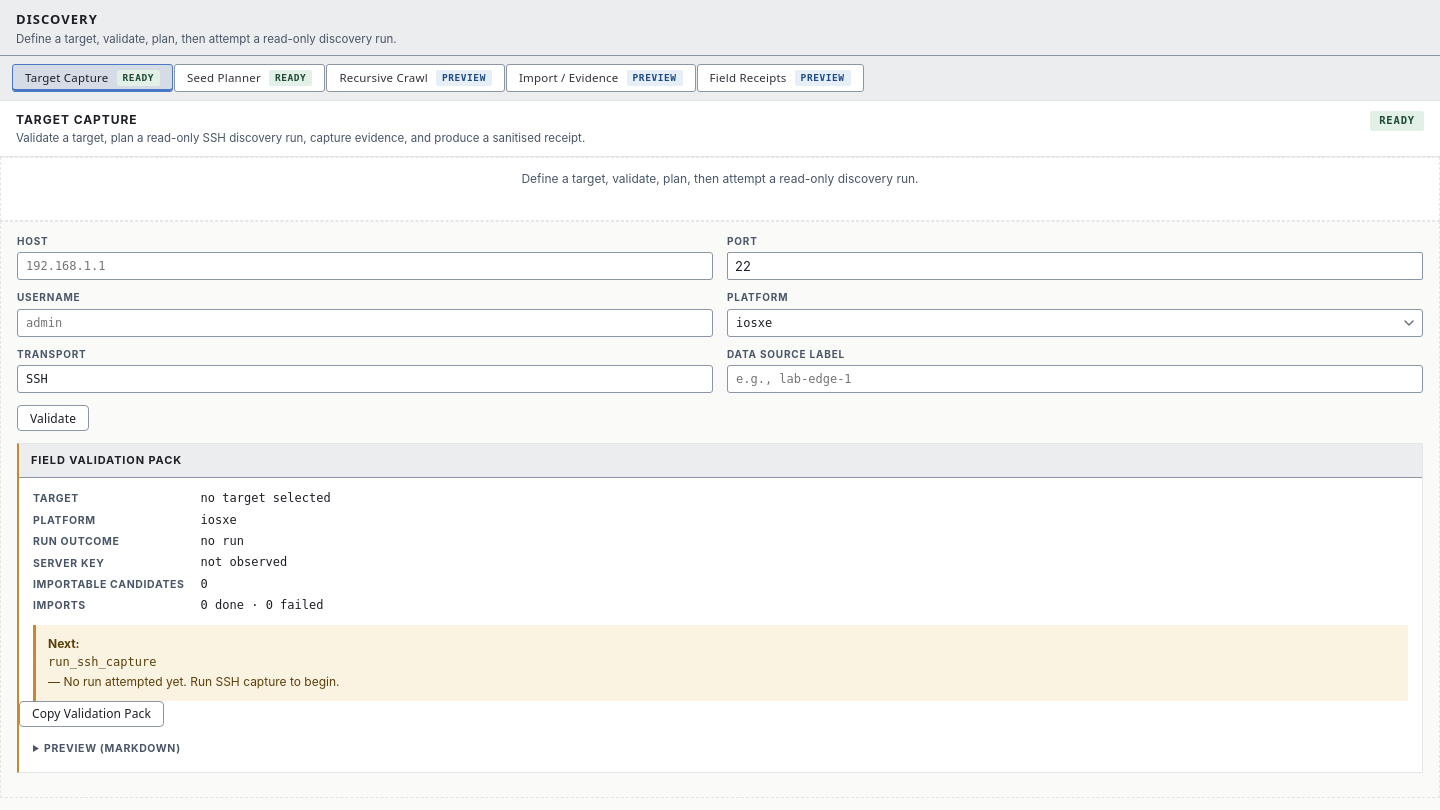
it: DiscoveryMode — V1BA evidence handoff › does NOT render handoff on auth_failed outcome
This screenshot has width=1440, height=810.
Type "x" into the field labelled "Host".
click(365, 266); type("x")  # box [17,252,713,280]
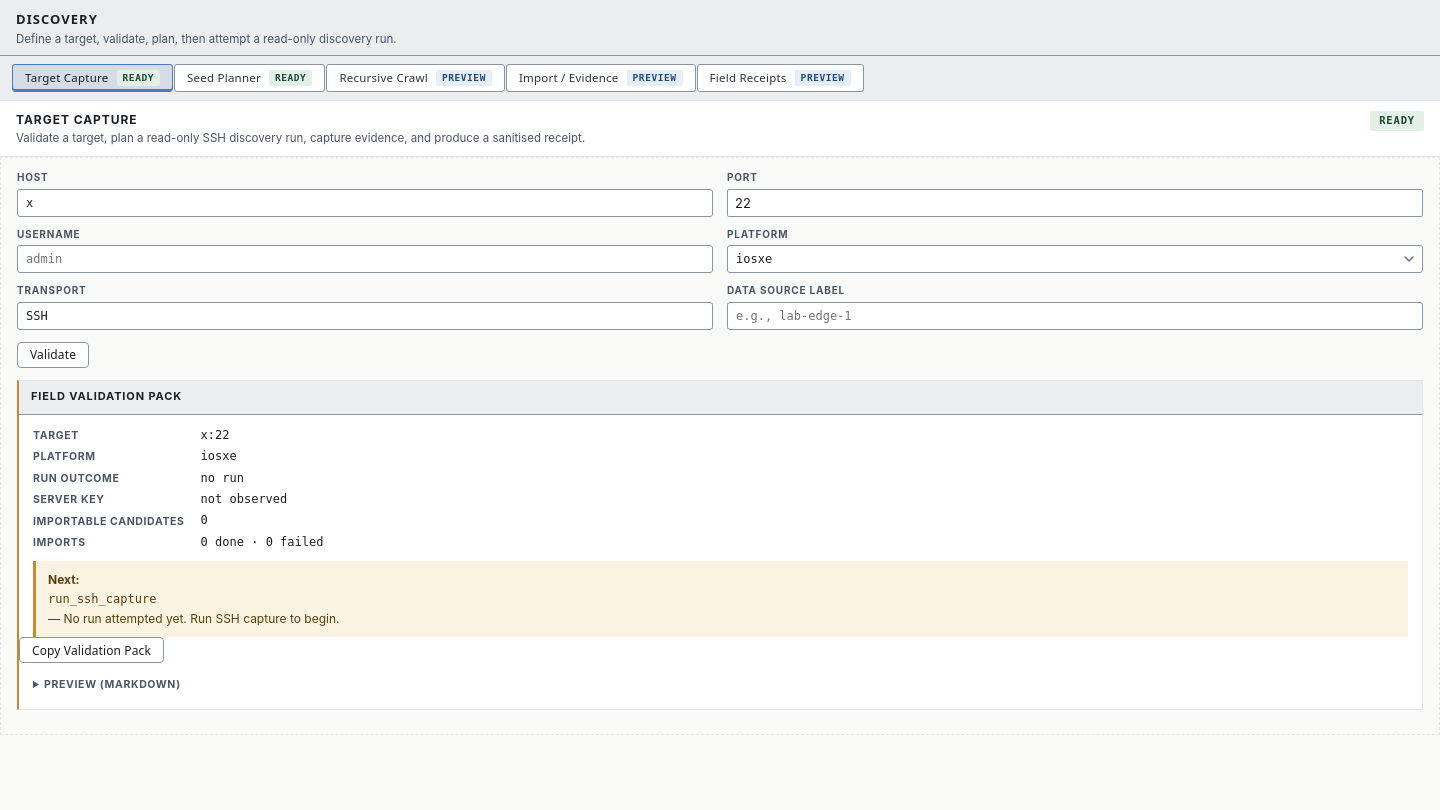
Type "x" into the field labelled "Username".
click(365, 259); type("x")  # box [17,245,713,273]
Type "x" into the field labelled "Data Source Label".
click(1075, 316); type("x")  # box [727,302,1423,330]
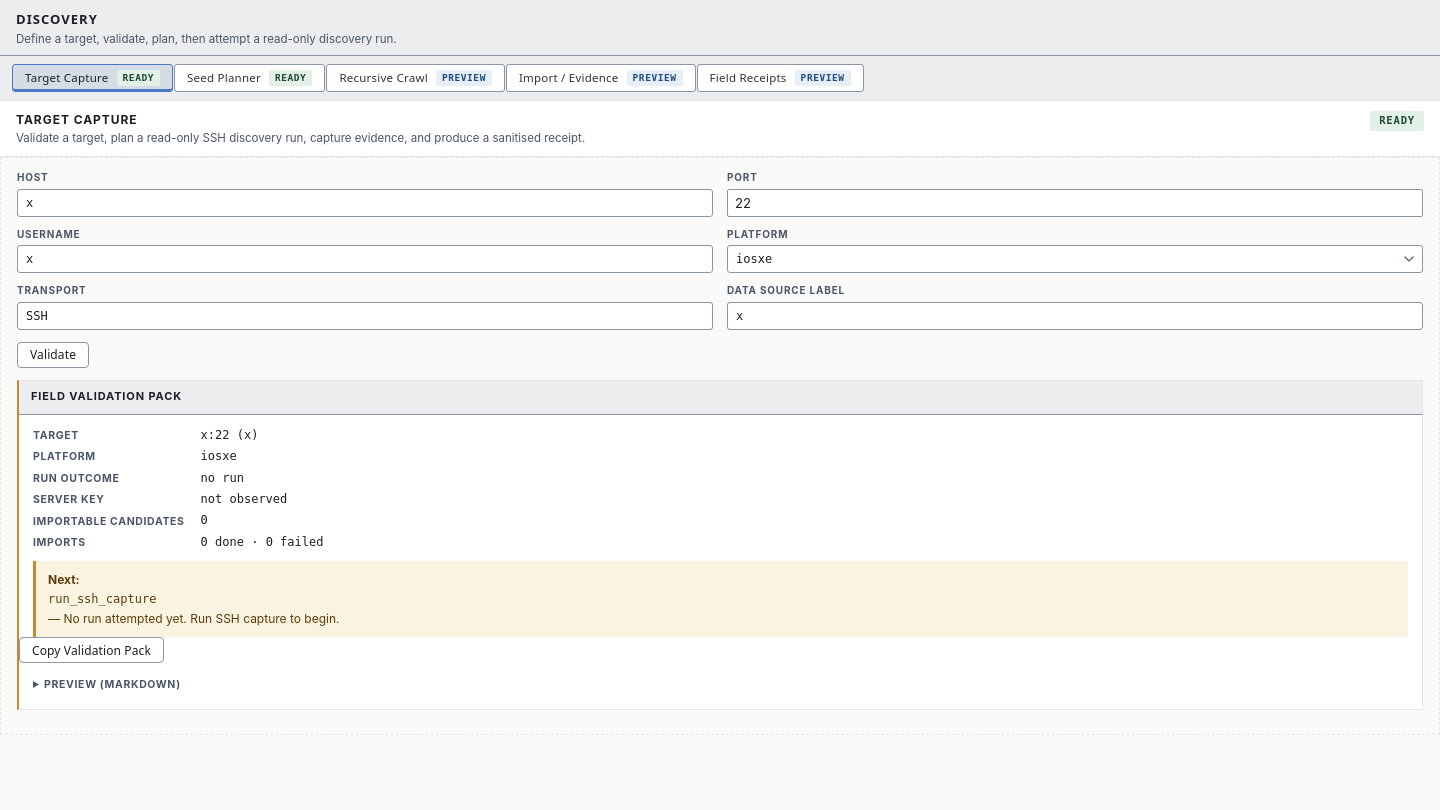
Click the button with test id "discovery-validate-btn".
click(53, 355)  # box [17,342,89,368]
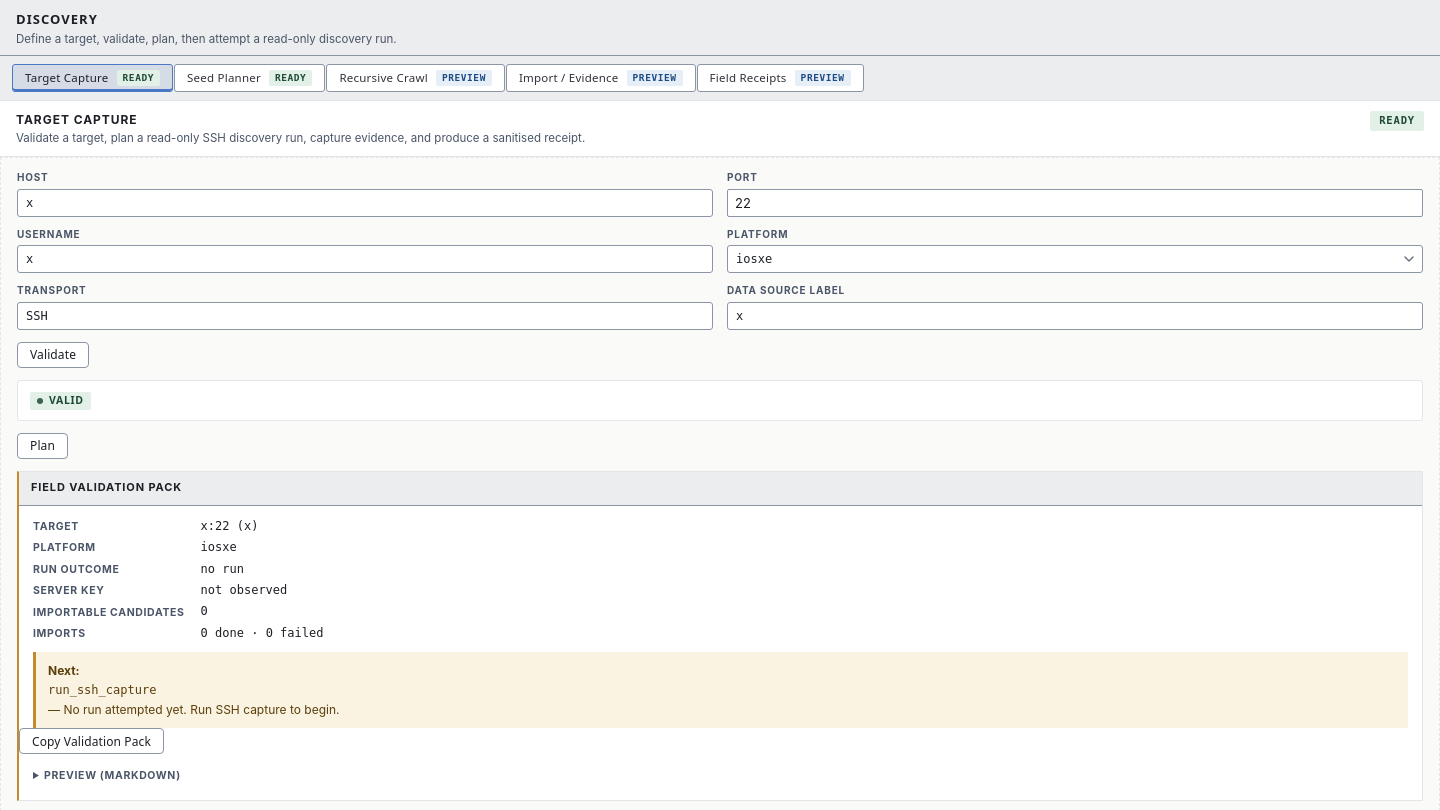
expect the text "Valid" is shown: met, box [30,392,91,410]
Click the button with test id "discovery-plan-btn".
click(42, 446)  # box [17,433,68,459]
(page scrolled)
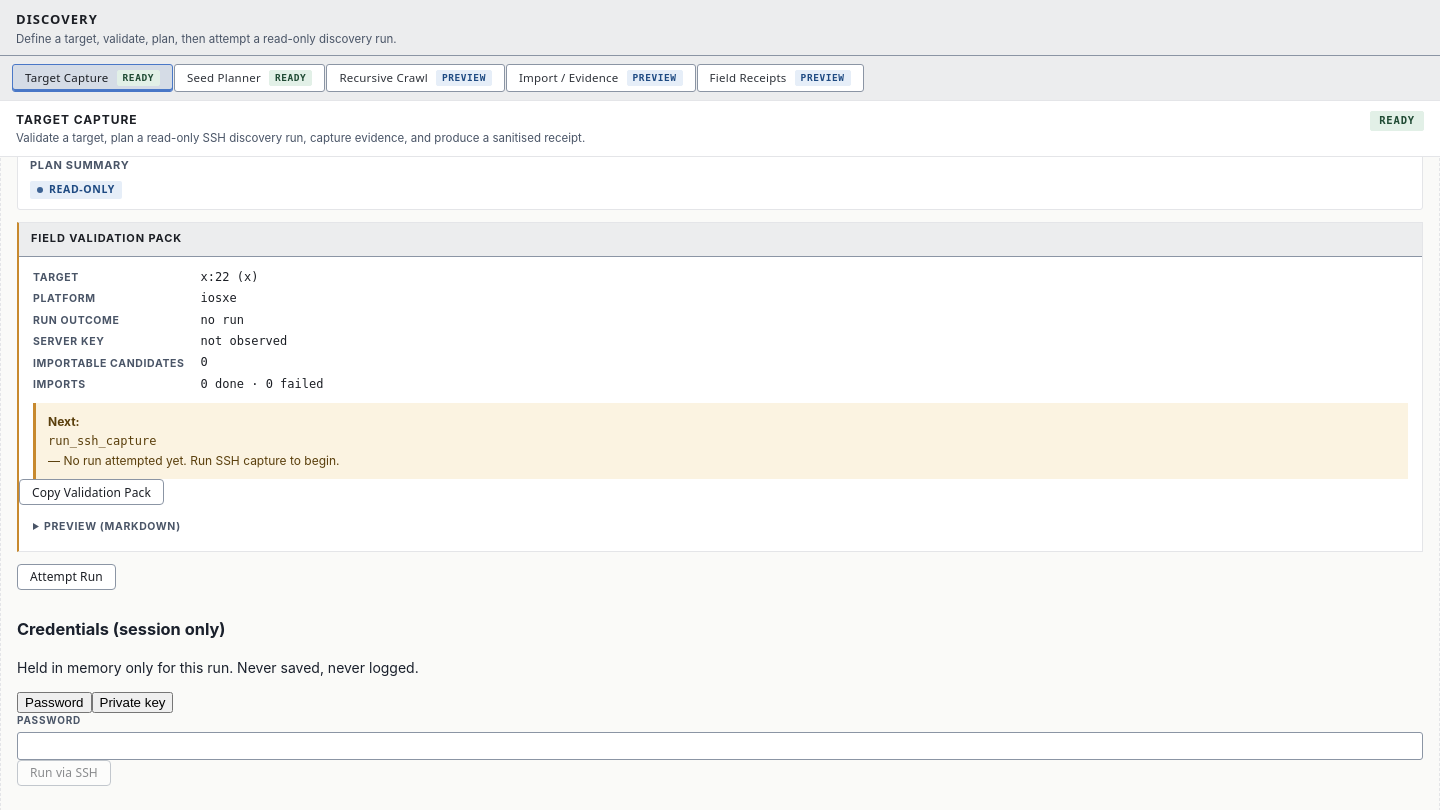
expect the element with test id "discovery-plan-summary" is shown: met, box [17,157,1423,210]
Type "x" into the password field with test id "discovery-credential-password".
click(720, 746); type("x")  # box [17,732,1423,760]
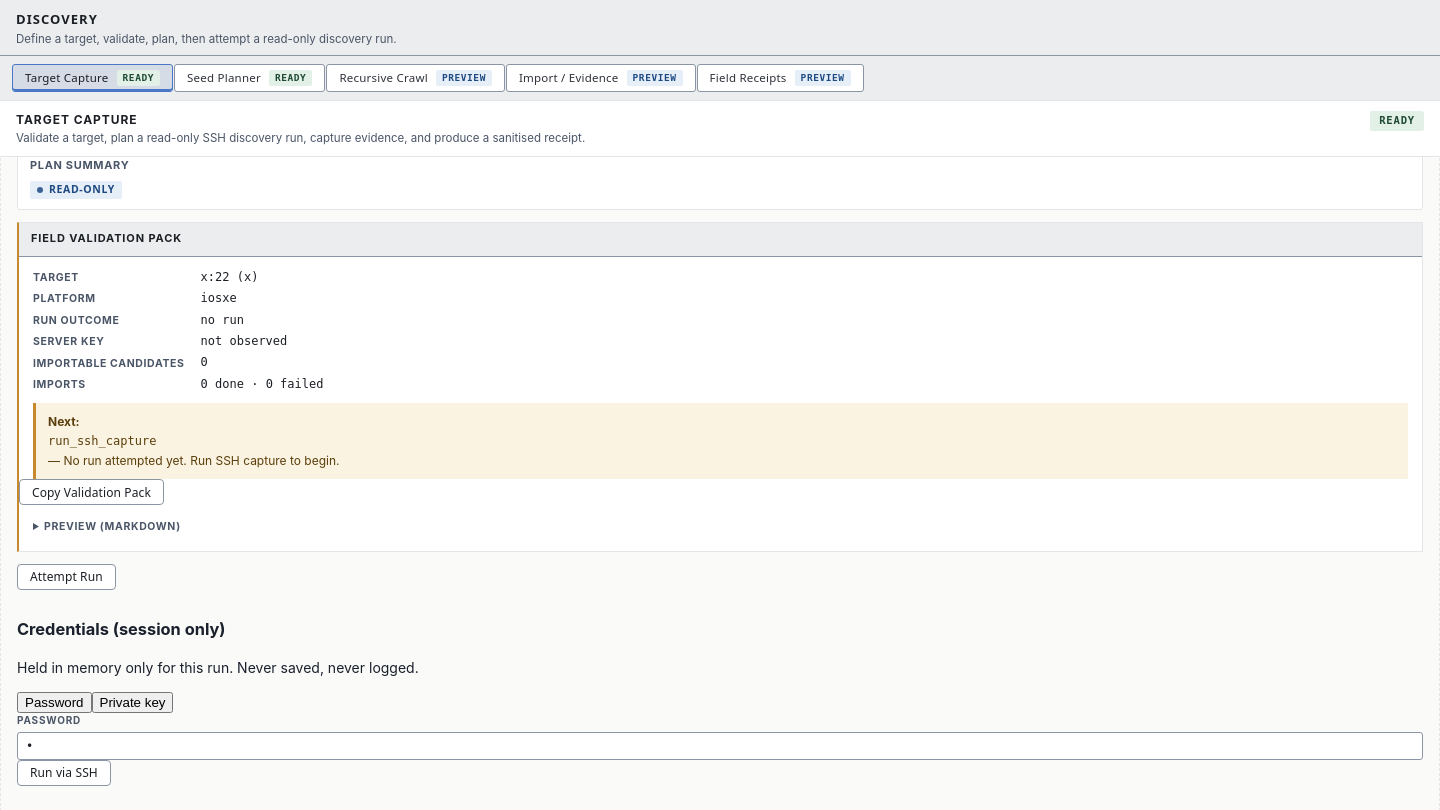
Click the button with test id "discovery-ssh-run-btn".
click(64, 773)  # box [17,760,111,786]
(page scrolled)
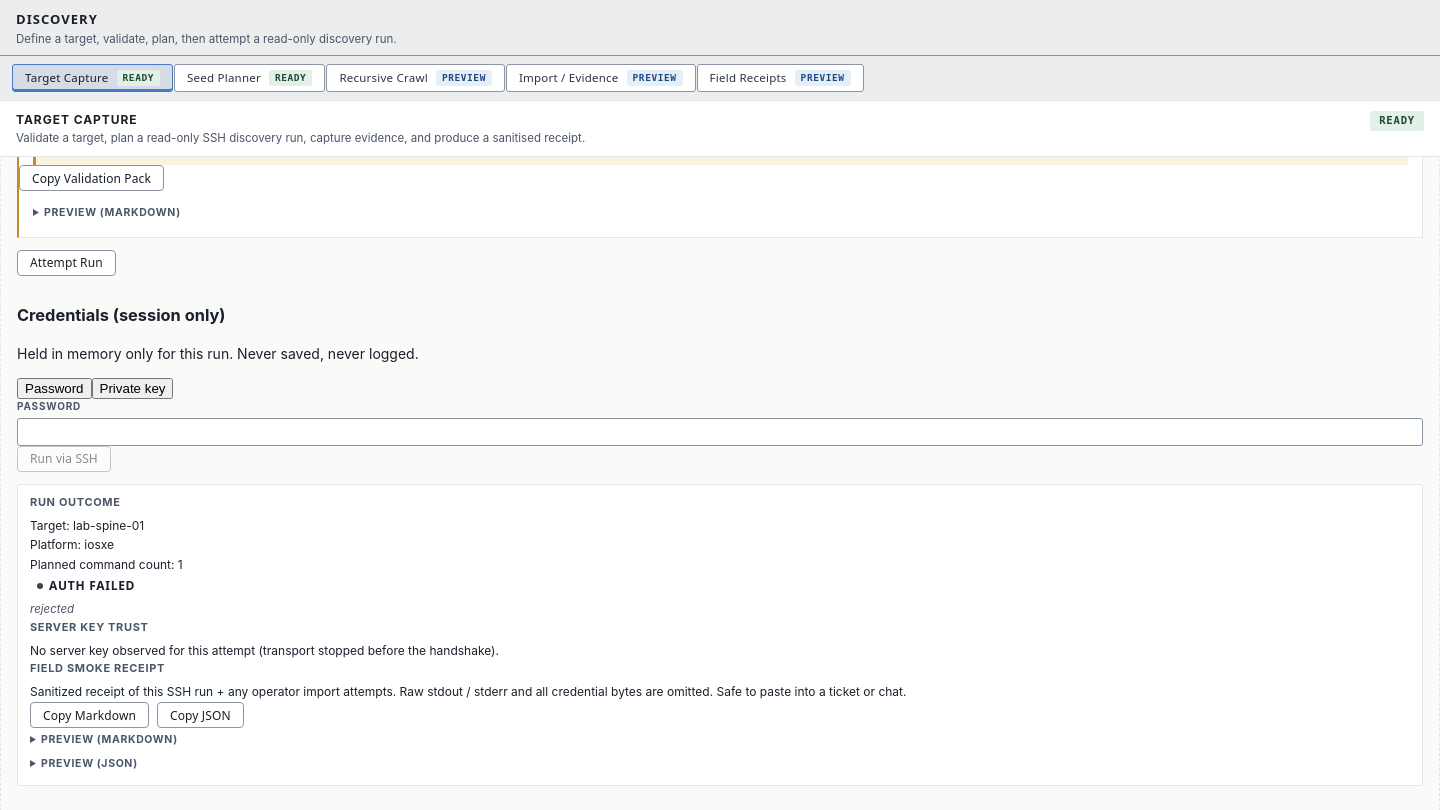
expect the element with test id "discovery-ssh-auth-failed" is shown: met, box [30,577,135,616]
